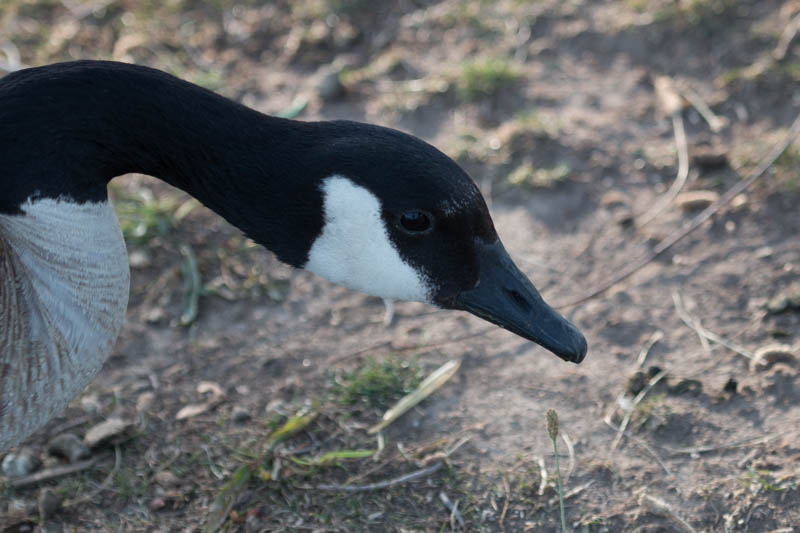goose-head: (244, 107, 588, 367)
